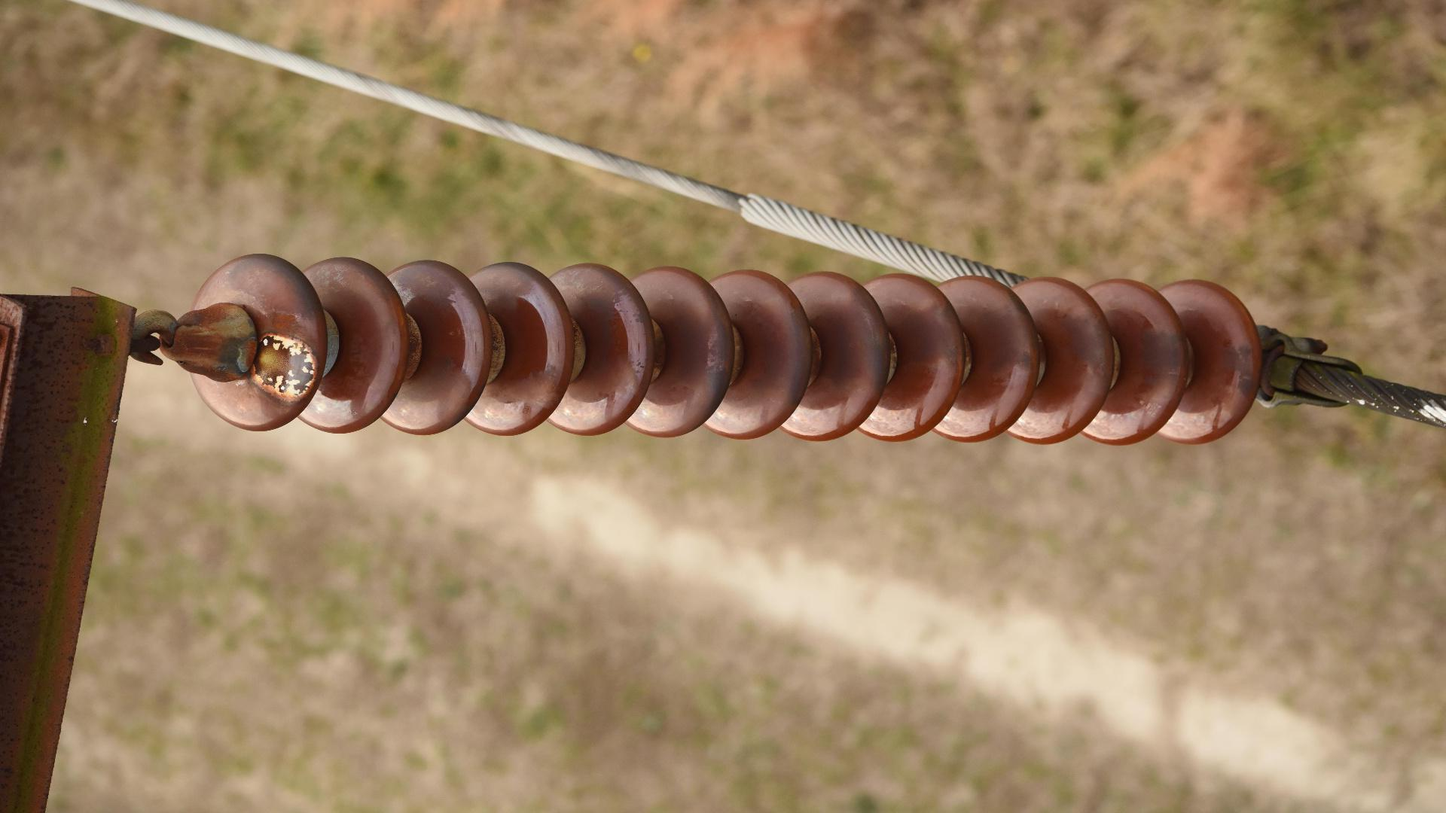insulator: (188, 250, 1267, 450)
insulator_flashover: (247, 329, 319, 404)
